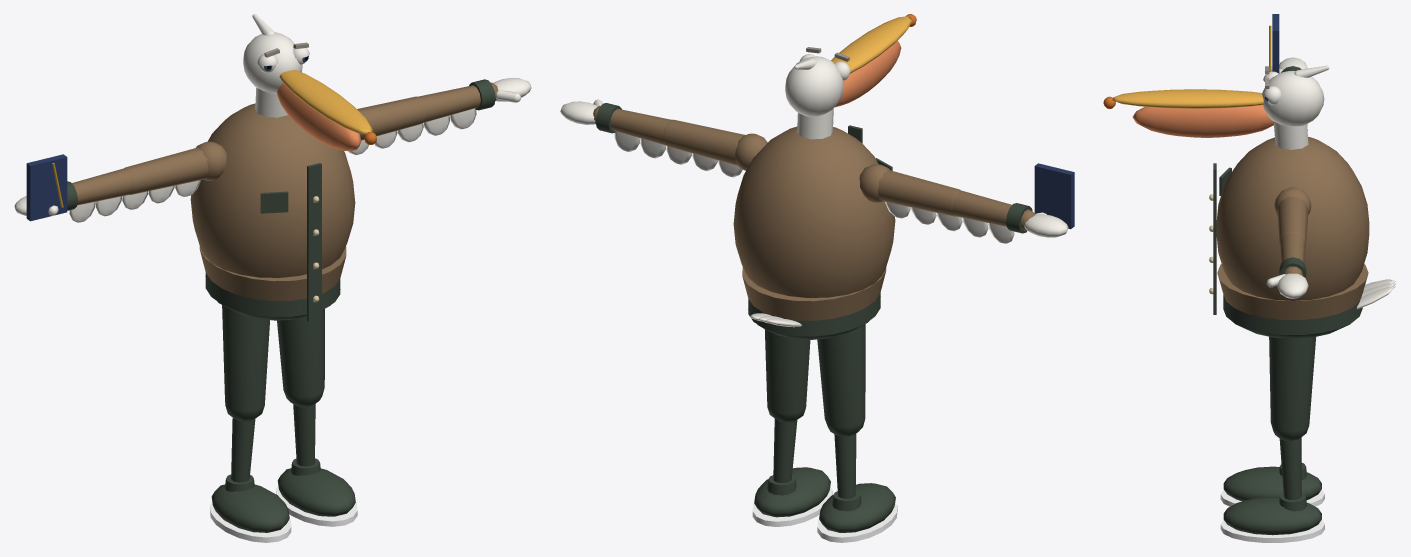
File: coach_scout.glb
The picture shows the model from 3 angles, left to right: view 1: azimuth 30°, elevation 25°; view 2: azimuth 150°, elevation 25°; view 3: azimuth 270°, elevation 25°; orthographic projection. The views are drawn at different scales.
Visible parts, largest first — view 1: coach_scout_body, prop_notebook_mesh; view 2: coach_scout_body, prop_notebook_mesh; view 3: coach_scout_body, prop_notebook_mesh.
Boxes of the visible parts, bbox=[...] form: coach_scout_body: bbox=[14, 14, 531, 542]; prop_notebook_mesh: bbox=[26, 154, 67, 221]; coach_scout_body: bbox=[560, 14, 1068, 542]; prop_notebook_mesh: bbox=[1034, 163, 1074, 229]; coach_scout_body: bbox=[1103, 57, 1395, 542]; prop_notebook_mesh: bbox=[1269, 14, 1279, 73].
Size of the model in its own units: 1.95 by 1.73 by 1.02.
